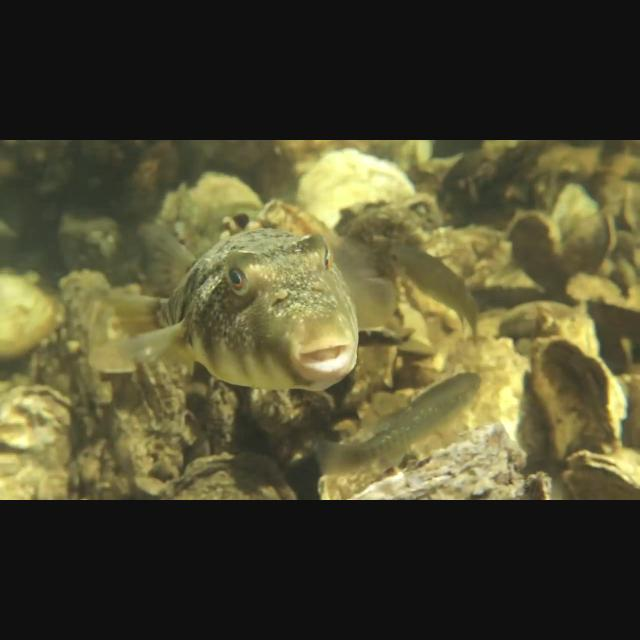Oyster-Closed: (537, 337, 635, 447), (153, 449, 302, 499), (4, 380, 82, 458), (516, 371, 573, 462), (507, 208, 567, 279), (583, 211, 621, 272)
Oyster-Open: (564, 451, 638, 500)
